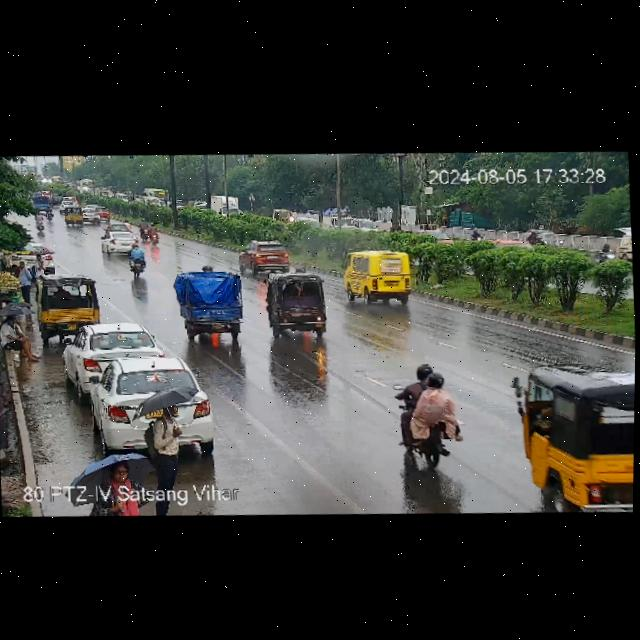bus: (341, 245, 416, 310)
car: (507, 356, 635, 517), (84, 353, 206, 440), (62, 317, 165, 389), (169, 267, 247, 345), (14, 276, 86, 343), (263, 270, 331, 340), (239, 238, 290, 275), (10, 241, 54, 273), (100, 230, 142, 257), (83, 203, 111, 225), (62, 205, 82, 228), (104, 221, 130, 234), (272, 206, 292, 222)
motorcycle: (387, 354, 468, 472), (123, 245, 152, 281), (136, 219, 165, 247), (31, 209, 56, 231), (597, 243, 617, 266), (525, 226, 541, 244), (468, 226, 485, 241)
person: (153, 394, 188, 493), (0, 317, 45, 366), (101, 458, 144, 489), (0, 297, 34, 333), (15, 257, 34, 305), (33, 253, 46, 274)
